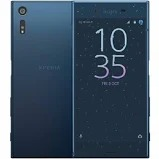sony: (68, 1, 152, 159), (10, 1, 72, 159)
